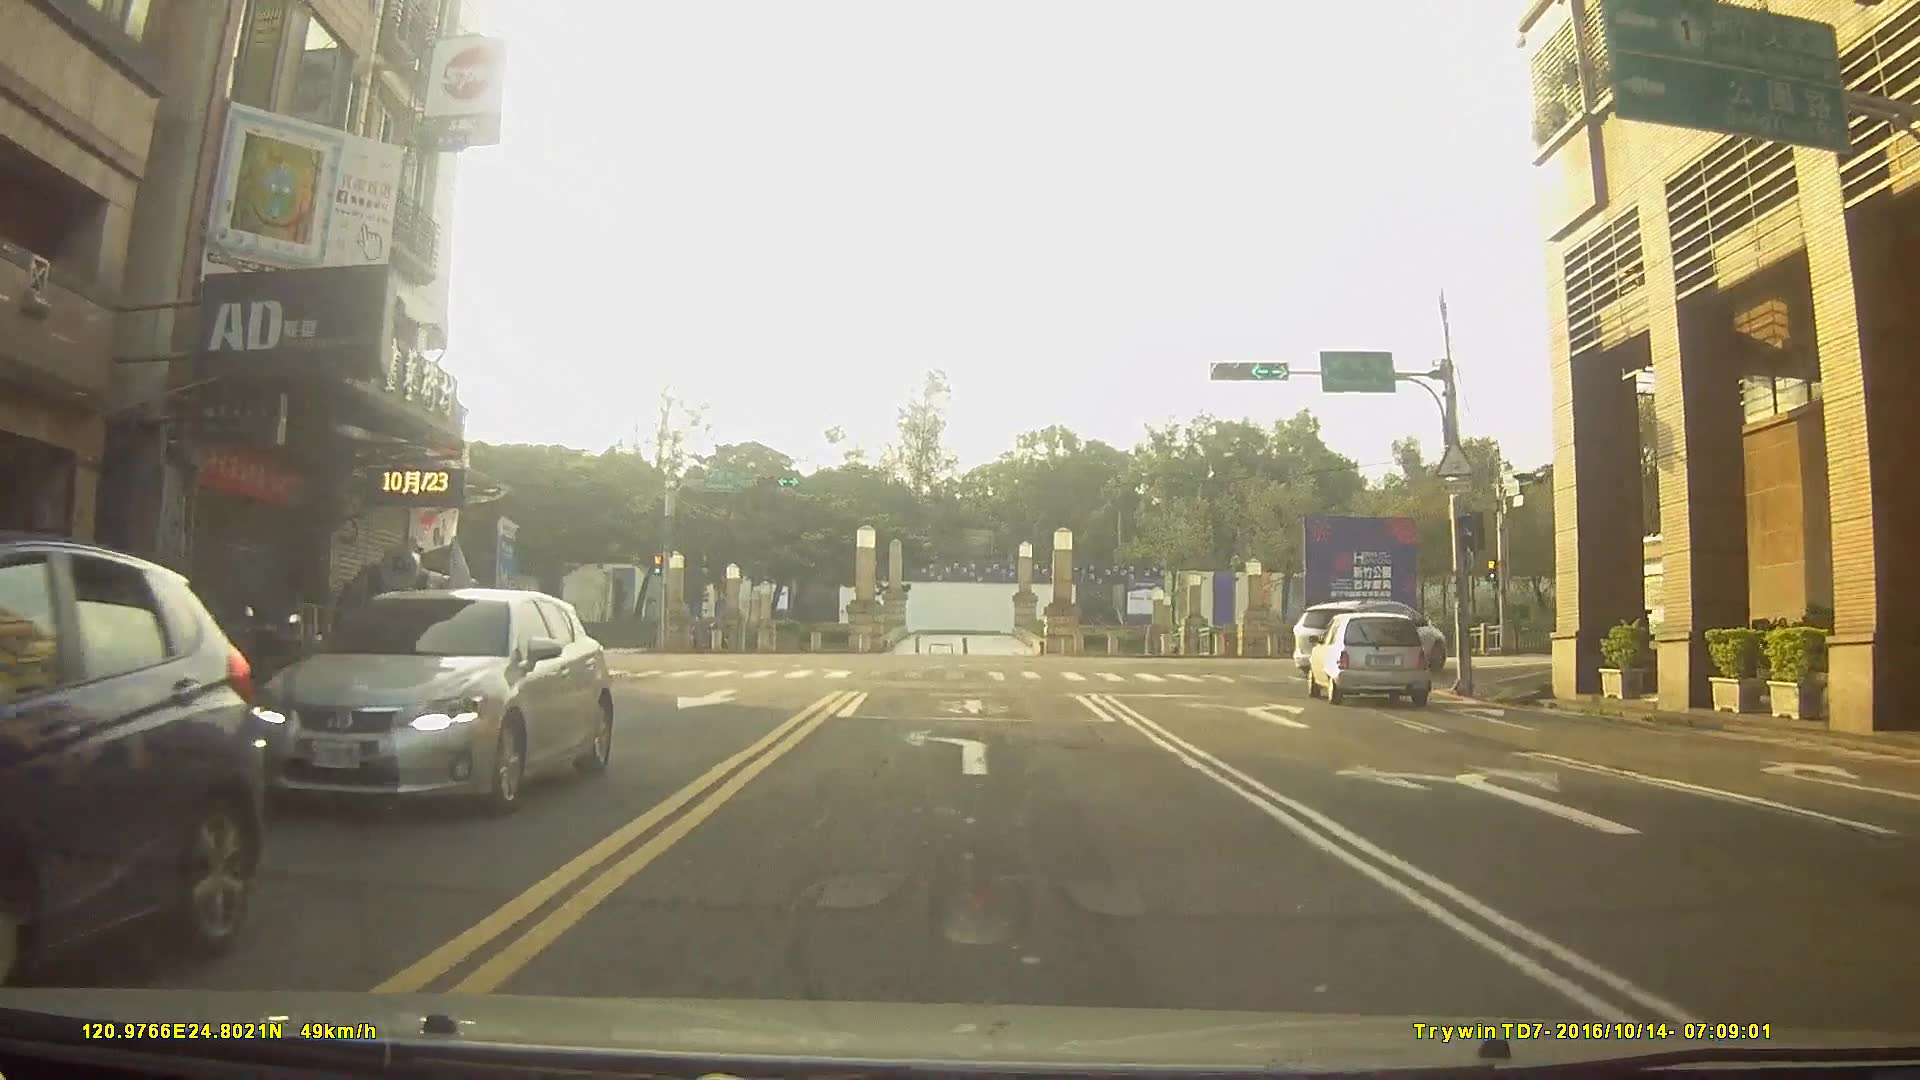vehicle: (0, 527, 261, 1001), (248, 584, 611, 814), (1292, 596, 1447, 678), (1305, 611, 1432, 705)
